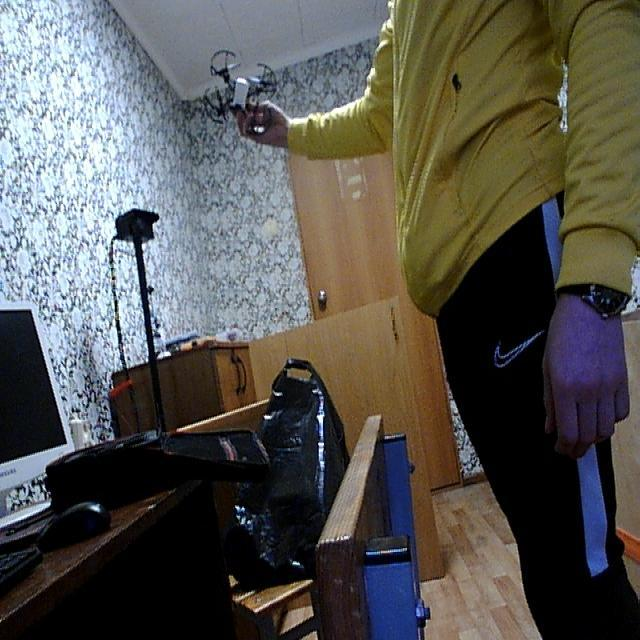drone: (202, 42, 288, 154)
